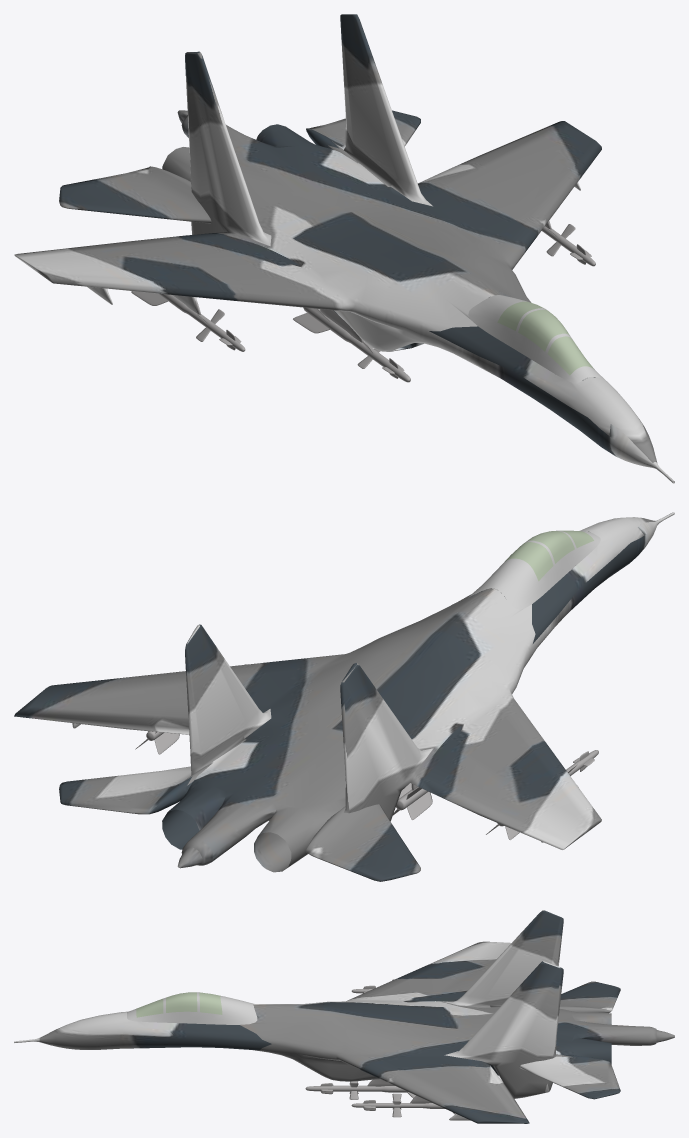
File: enemyjet.obj
3 renders of one model, top to bottom at view 1: azimuth 30°, elevation 25°; view 2: azimuth 150°, elevation 25°; view 3: azimuth 270°, elevation 25°, orthographic. The views are drawn at different scales.
Visible parts, largest first — view 1: Cube.003, Cube.001, Circle.006_Circle.007, Cube.002, Circle.007_Circle.009, Cube.004, Circle.004; view 2: Cube.003, Cube.001, Cube.002, Circle.006_Circle.007; view 3: Cube.003, Cube.001, Cube.002, Circle.005_Circle.006, Circle.004, Cube.004.
Boxes of the visible parts, bbox=[...] form: Cube.003: bbox=[14, 14, 674, 483]; Cube.001: bbox=[468, 295, 600, 382]; Circle.006_Circle.007: bbox=[293, 307, 410, 382]; Cube.002: bbox=[497, 301, 569, 351]; Circle.007_Circle.009: bbox=[131, 291, 245, 351]; Cube.004: bbox=[547, 336, 593, 375]; Circle.004: bbox=[541, 221, 595, 266]; Cube.003: bbox=[14, 512, 674, 881]; Cube.001: bbox=[468, 530, 600, 609]; Cube.002: bbox=[504, 531, 574, 581]; Circle.006_Circle.007: bbox=[393, 783, 432, 819]; Cube.003: bbox=[14, 910, 674, 1123]; Cube.001: bbox=[127, 992, 257, 1024]; Cube.002: bbox=[166, 992, 222, 1014]; Circle.005_Circle.006: bbox=[305, 1079, 415, 1099]; Circle.004: bbox=[351, 1093, 455, 1117]; Cube.004: bbox=[136, 998, 163, 1017].
Size of the model in its own units: 4.8 by 1.84 by 7.47.
6 materials, 1 textured.
